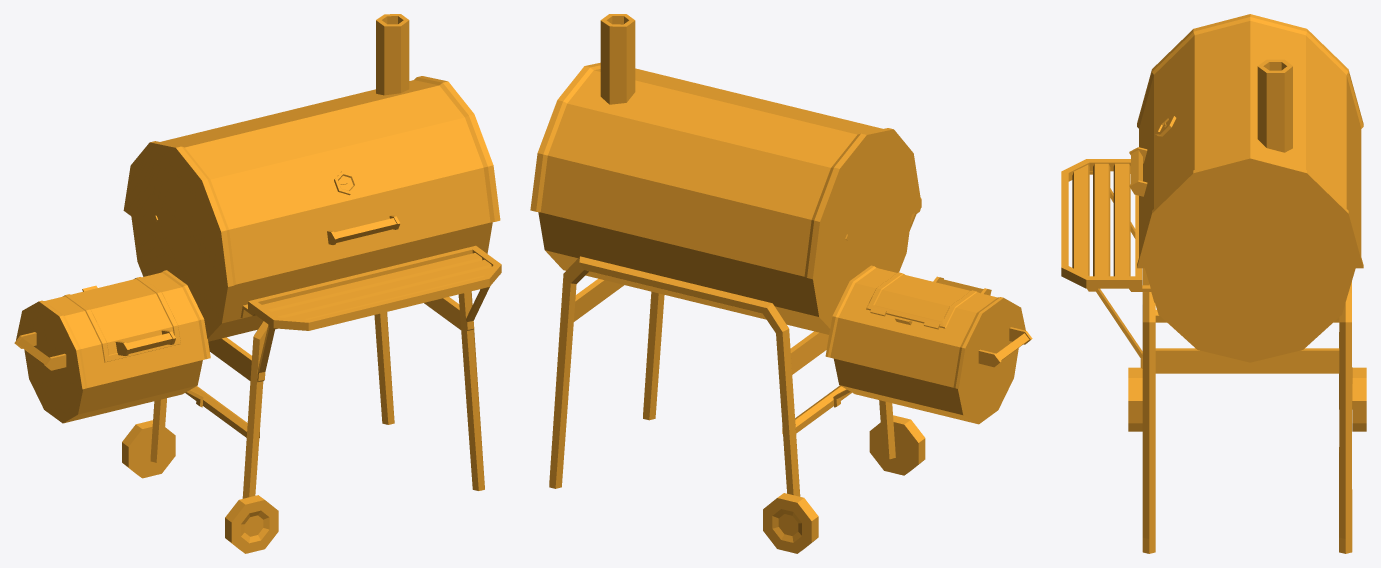
File: SM_Grill_Coal_Big.fbx
The picture shows the model from 3 angles, left to right: view 1: azimuth 30°, elevation 25°; view 2: azimuth 150°, elevation 25°; view 3: azimuth 270°, elevation 25°; orthographic projection. The views are drawn at different scales.
Parts seen in each view (by area): view 1: grill-coal-big-lid, grill-coal-big-base, grill-coal-big-lid-small; view 2: grill-coal-big-lid, grill-coal-big-base, grill-coal-big-lid-small; view 3: grill-coal-big-lid, grill-coal-big-base.
Part boxes in pixels (x1,y1,x2,y2): grill-coal-big-lid: (123, 14, 500, 286); grill-coal-big-base: (14, 216, 501, 553); grill-coal-big-lid-small: (63, 277, 180, 362); grill-coal-big-lid: (530, 14, 920, 279); grill-coal-big-base: (538, 198, 1032, 553); grill-coal-big-lid-small: (866, 272, 991, 329); grill-coal-big-lid: (1129, 14, 1363, 268); grill-coal-big-base: (1061, 159, 1366, 553).
Size of the model in its own units: 1.5 by 1.49 by 0.8752.
